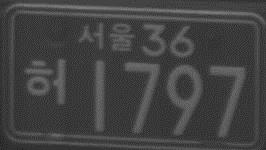1: (89, 57, 111, 134)
3: (140, 22, 166, 58)
6: (167, 24, 195, 59)
7: (120, 58, 163, 137), (207, 63, 248, 139)
9: (166, 63, 204, 139)
서울_O: (76, 18, 136, 55)
허: (23, 55, 69, 108)
